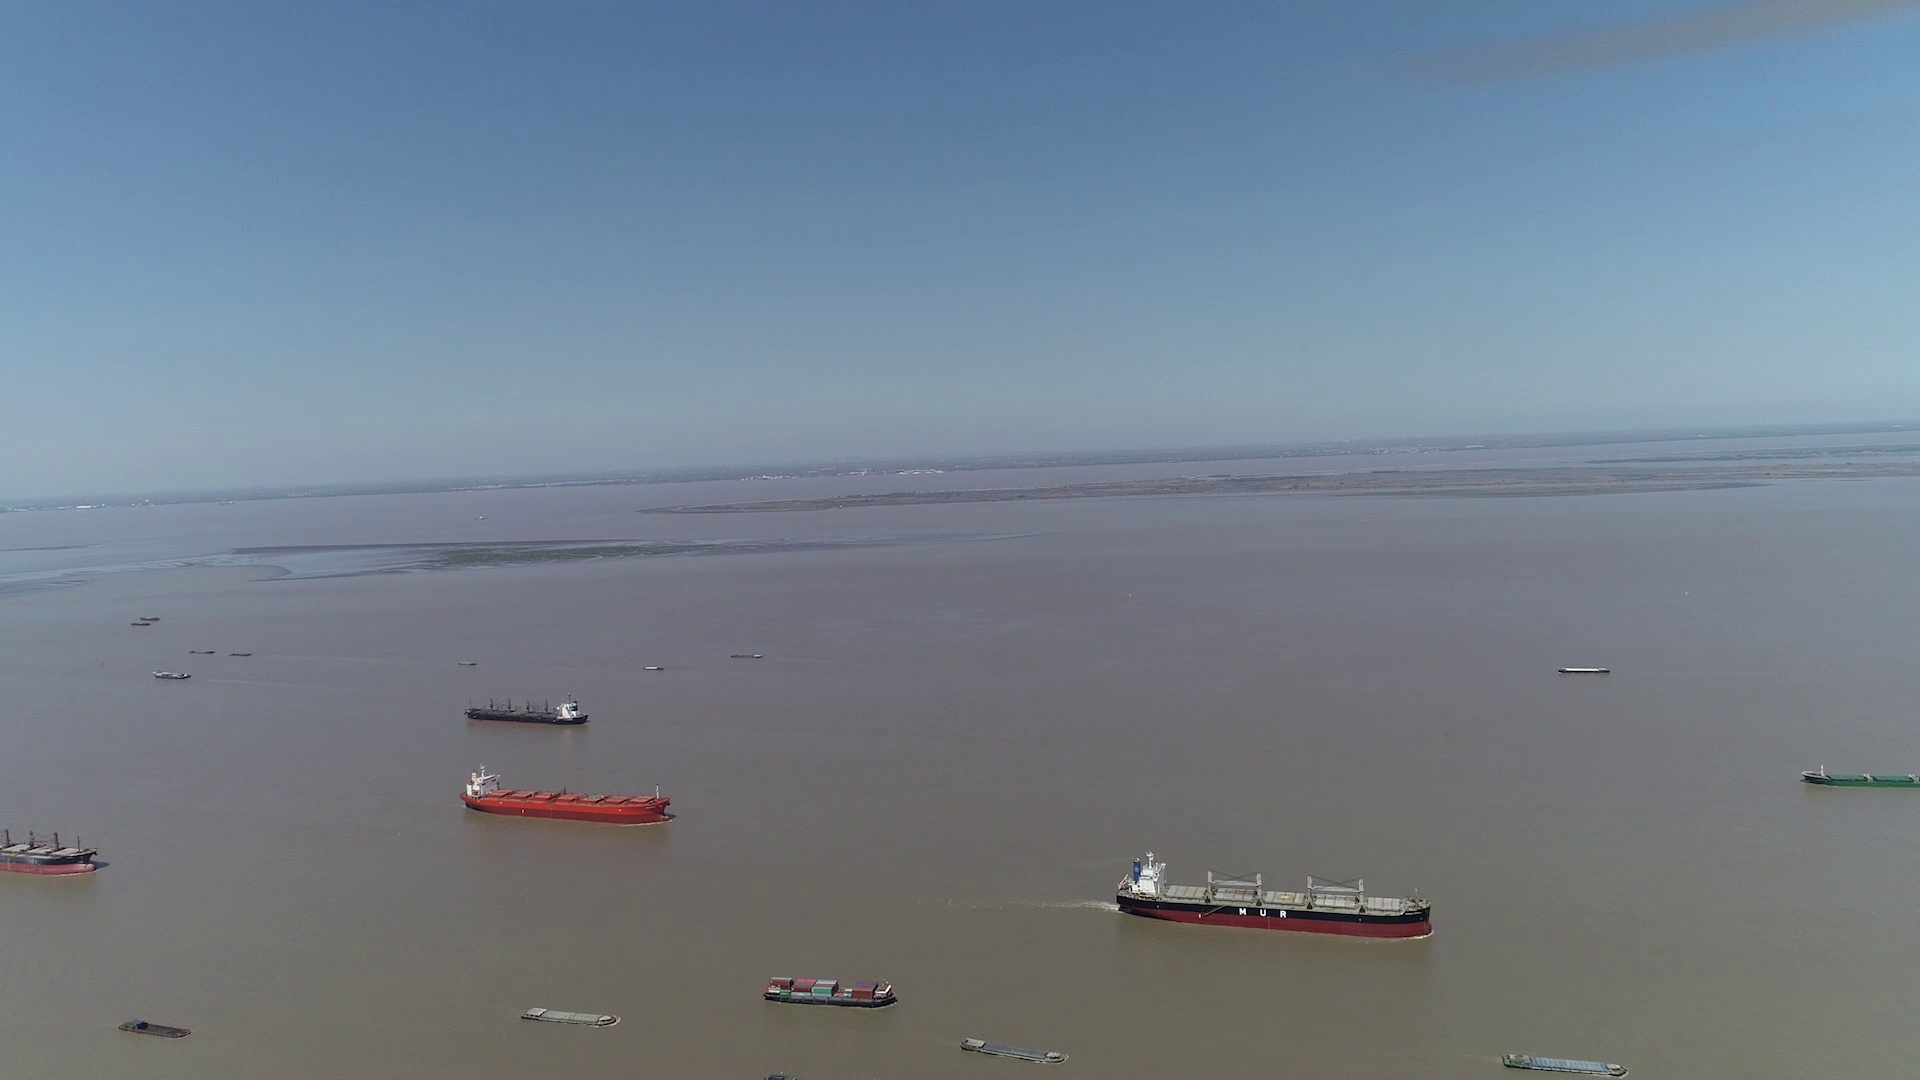ship: (1113, 851, 1432, 942), (460, 761, 667, 822), (3, 812, 103, 876), (764, 976, 897, 1007), (465, 694, 589, 724), (1499, 1051, 1627, 1076), (1801, 764, 1917, 789), (961, 1036, 1063, 1063), (520, 1006, 618, 1029), (120, 1021, 193, 1040), (152, 669, 194, 679), (1557, 666, 1610, 674)
